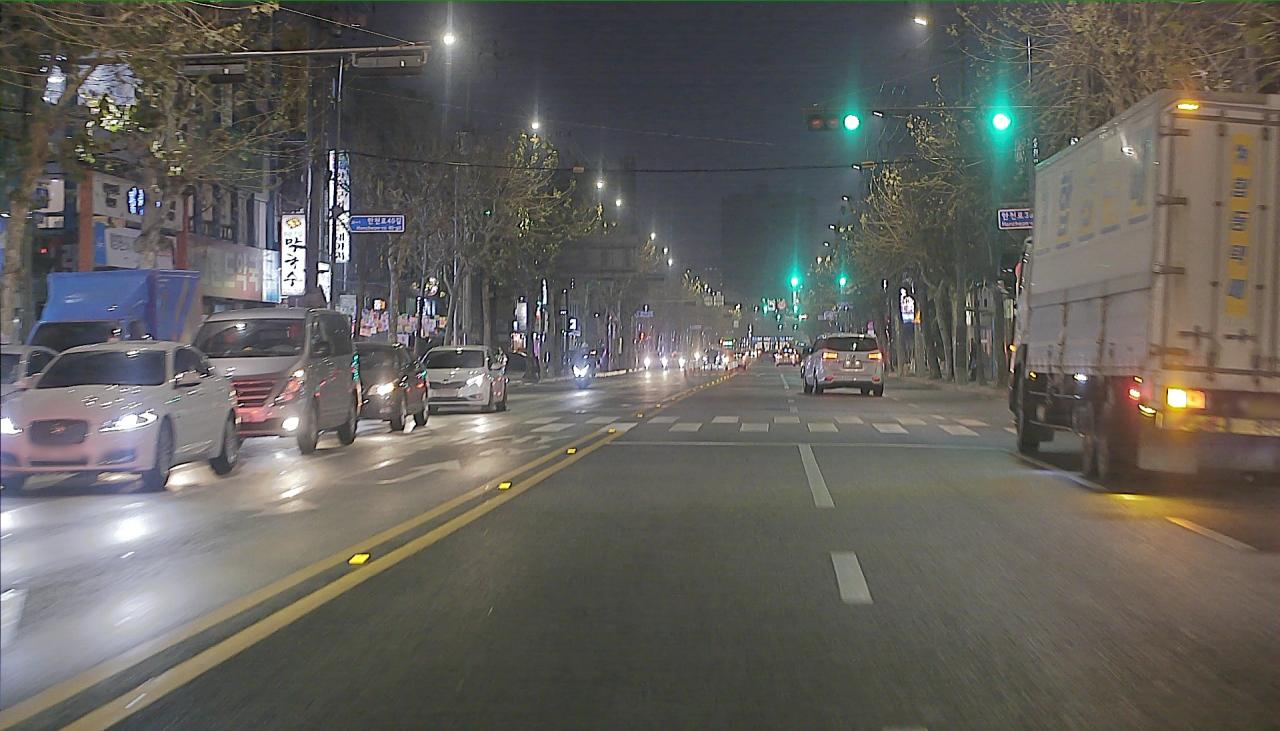Green Light: (992, 110, 1013, 133), (842, 112, 861, 132)
